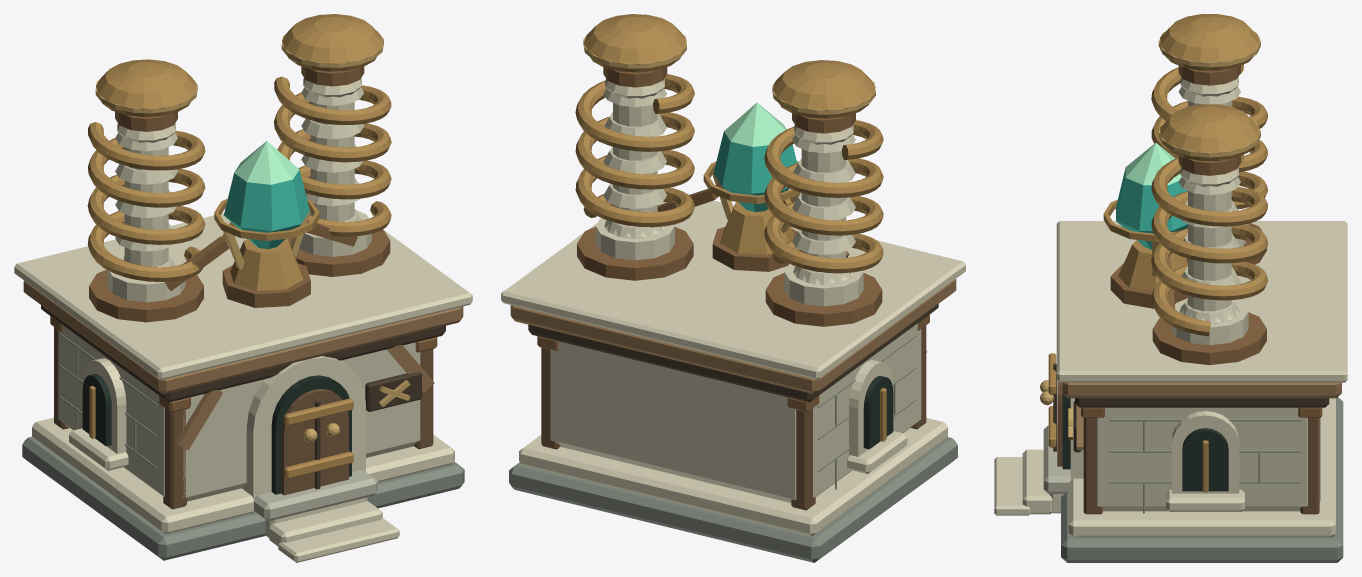
Rendered from c_coil.glb.
3 renders of one model, left to right at view 1: azimuth 30°, elevation 25°; view 2: azimuth 150°, elevation 25°; view 3: azimuth 270°, elevation 25°, orthographic. The views are drawn at different scales.
Parts seen in each view (by area): view 1: Stone, Metal, Timber, Glow; view 2: Stone, Metal, Timber, Glow; view 3: Stone, Metal, Timber, Glow.
Part boxes in pixels (left/top/right/bottom): Stone: left=14, top=78, right=472, bottom=562; Metal: left=50, top=14, right=437, bottom=478; Timber: left=23, top=280, right=463, bottom=509; Glow: left=224, top=141, right=309, bottom=248; Stone: left=501, top=79, right=965, bottom=562; Metal: left=537, top=14, right=929, bottom=441; Timber: left=510, top=279, right=956, bottom=510; Glow: left=713, top=102, right=796, bottom=212; Stone: left=994, top=77, right=1347, bottom=562; Metal: left=1040, top=14, right=1322, bottom=492; Timber: left=1053, top=363, right=1341, bottom=514; Glow: left=1116, top=143, right=1187, bottom=249.
Size of the model in its own units: 2.75 by 3.55 by 2.69.
